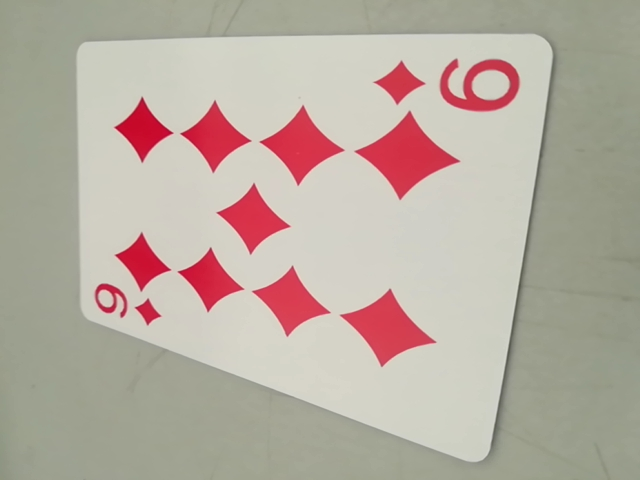fk 9: (374, 52, 523, 119), (86, 281, 168, 334)
